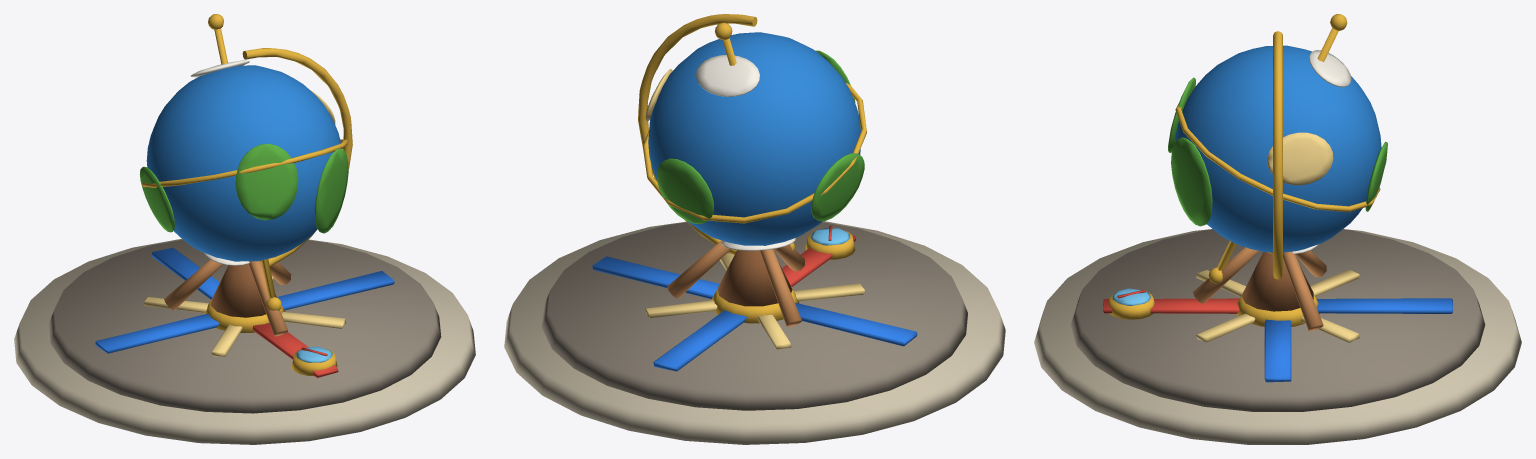
Rendered from geografia.glb.
3 renders of one model, left to right at view 1: azimuth 30°, elevation 25°; view 2: azimuth 150°, elevation 25°; view 3: azimuth 270°, elevation 25°, orthographic. The views are drawn at different scales.
Parts seen in each view (by area): view 1: Geografia; view 2: Geografia; view 3: Geografia.
Boxes of the visible parts, x1,y1,x2,y2 form: Geografia: [14, 14, 475, 444]; Geografia: [504, 14, 1005, 444]; Geografia: [1034, 14, 1521, 444].
Bounding box in the file's own units: 3.97 × 2.97 × 4.
